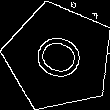O_SE: (27, 27, 91, 87)
